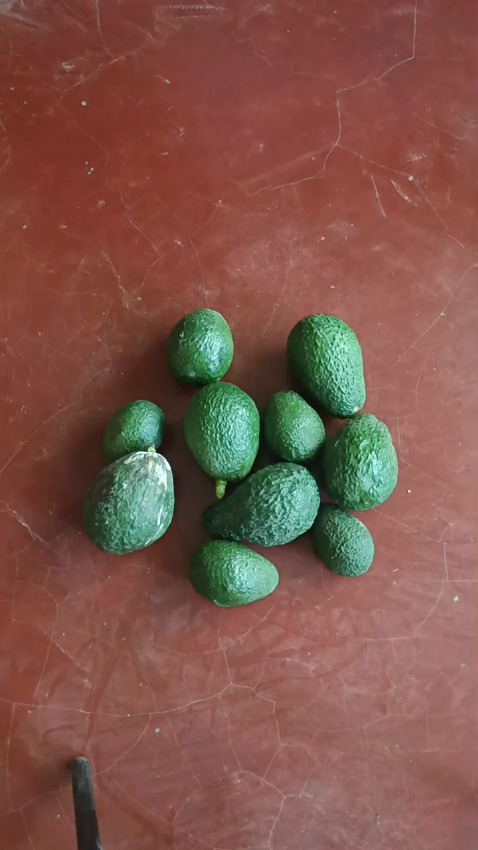Primera: (82, 449, 176, 553), (202, 464, 320, 546), (285, 313, 365, 417), (183, 381, 261, 486), (321, 413, 398, 510)
Segunda: (187, 540, 278, 606), (166, 307, 235, 384)
Tercera: (261, 390, 325, 464), (310, 503, 374, 576), (102, 399, 167, 462)
